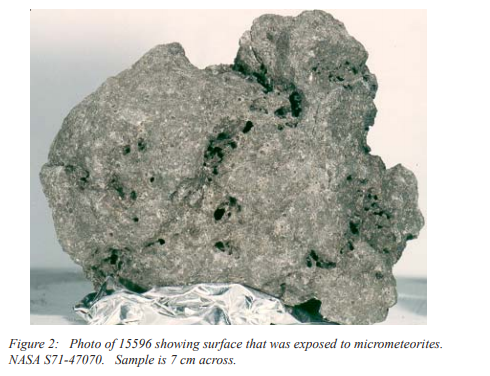Basalt: (49, 24, 397, 315), (96, 67, 370, 282)
